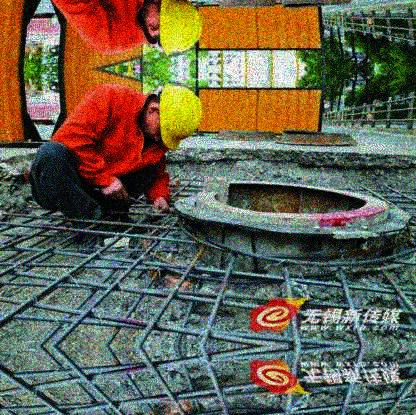helmet: (141, 84, 202, 151), (141, 1, 203, 55)
